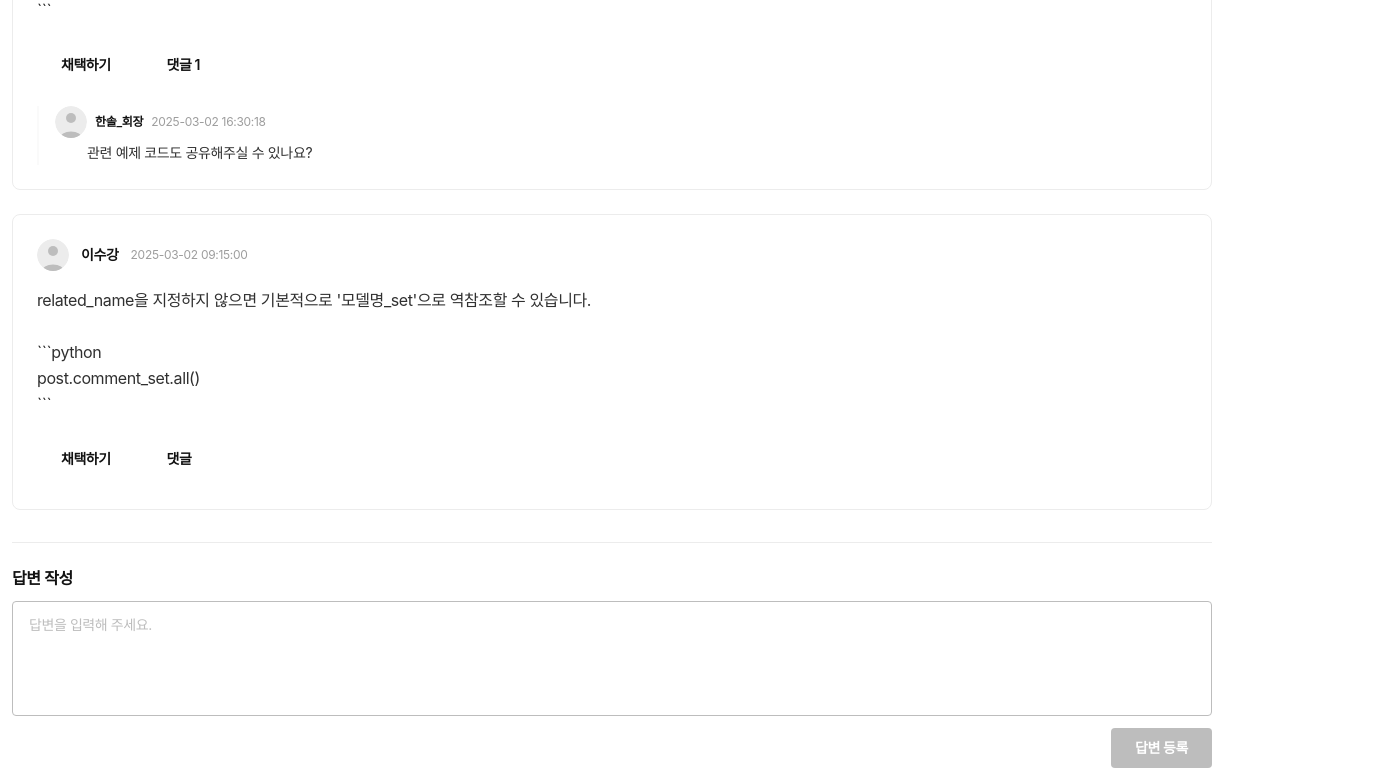
Test: QnaDetailPage › 답변 내용을 입력하면 등록 버튼이 활성화된다
(page scrolled)
Expected: the button "답변 등록" is shown, [1111,728,1212,767]
Type "테스트 답변입니다." into the text box with placeholder "답변을 입력해 주세요." at [612, 658], box [13,602,1211,715]
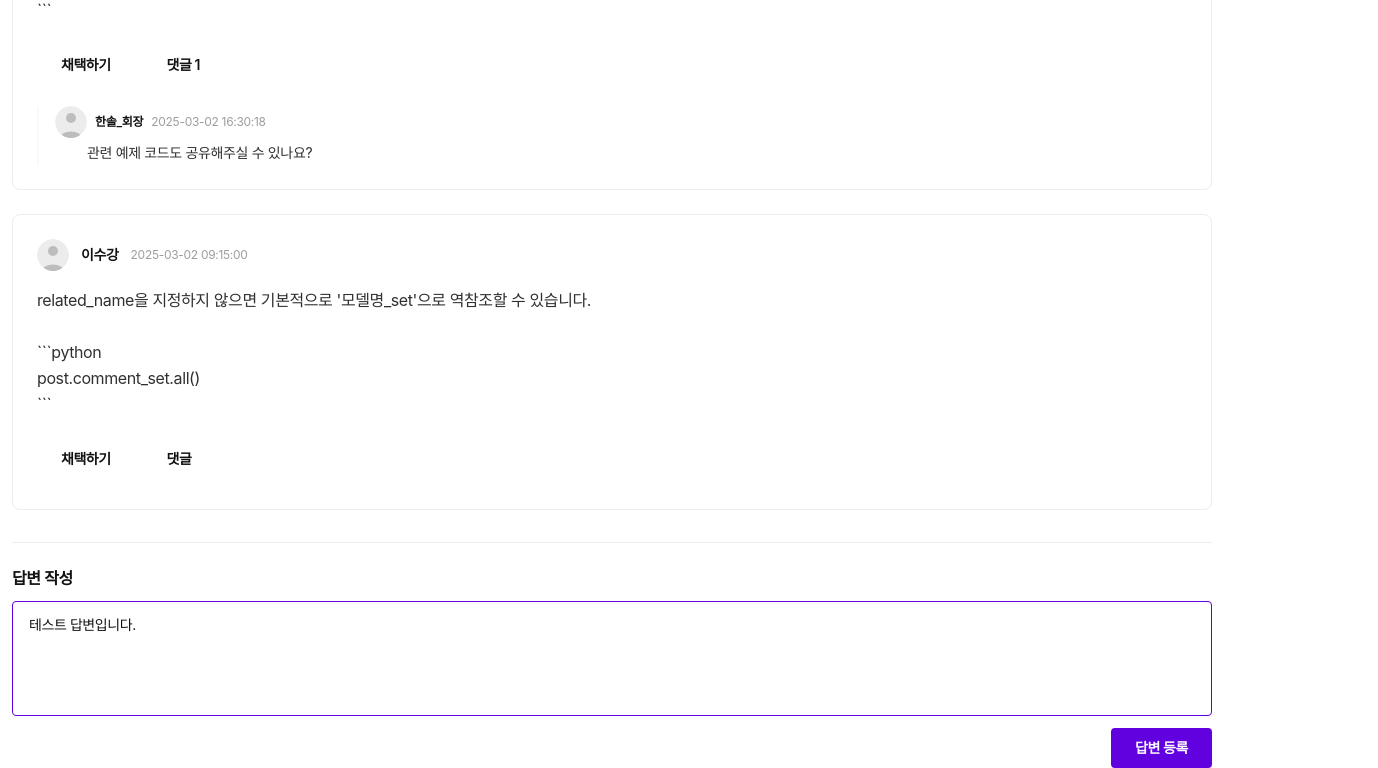
Now the button "답변 등록" is enabled, box [1111,728,1212,767]
